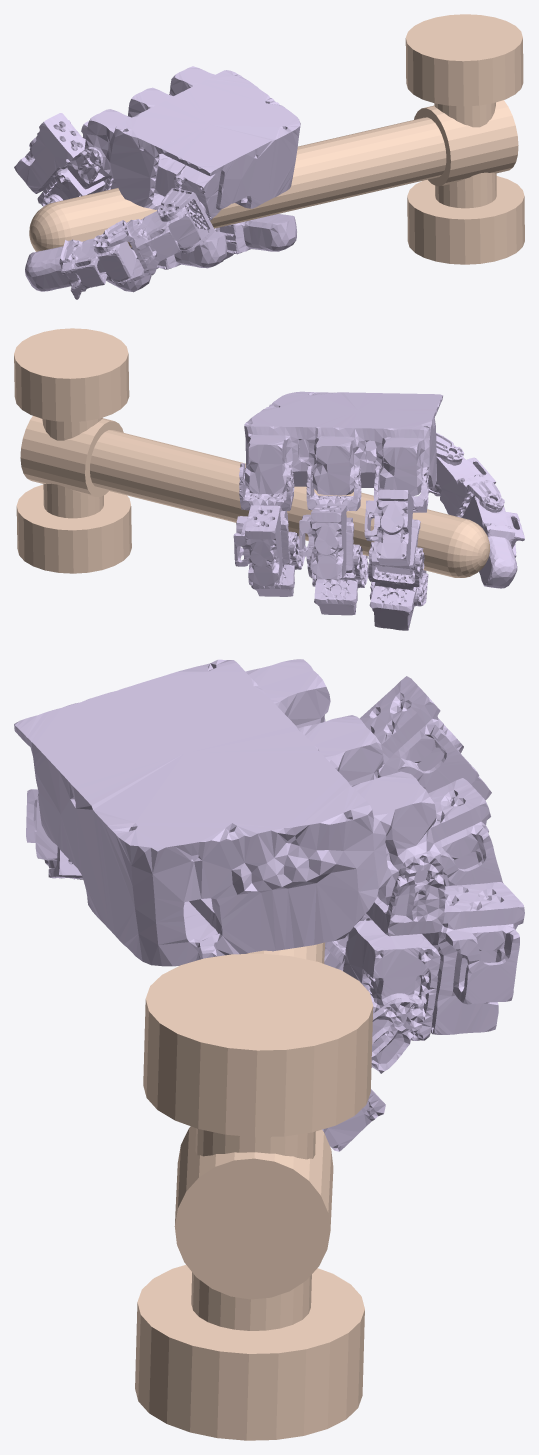
File: e05fac7fb5456d-closed.glb
The picture shows the model from 3 angles, top to bottom: view 1: azimuth 30°, elevation 25°; view 2: azimuth 150°, elevation 25°; view 3: azimuth 270°, elevation 25°; orthographic projection. The views are drawn at different scales.
Parts seen in each view (by area): view 1: LEAP_hand, world; view 2: LEAP_hand, world; view 3: LEAP_hand, world.
Part boxes in pixels (x1=…): LEAP_hand: x1=14, y1=66, x2=300, y2=299; world: x1=29, y1=14, x2=524, y2=264; LEAP_hand: x1=233, y1=391, x2=524, y2=630; world: x1=14, y1=328, x2=489, y2=577; LEAP_hand: x1=14, y1=659, x2=524, y2=1151; world: x1=135, y1=942, x2=373, y2=1440.
Size of the model in its own units: 0.3719 by 0.1474 by 0.1706.
